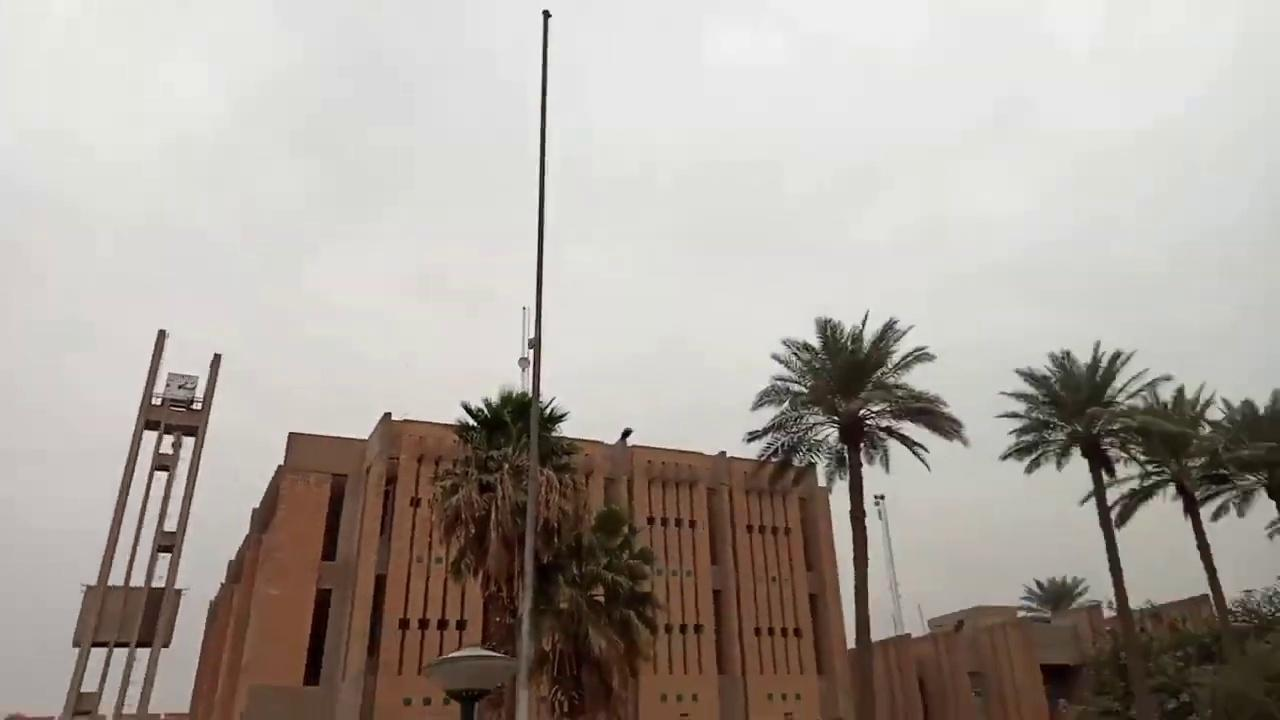tree: (426, 386, 663, 718), (742, 308, 969, 649), (993, 339, 1172, 718), (1092, 380, 1251, 627), (1205, 386, 1279, 541), (1018, 572, 1089, 617)
